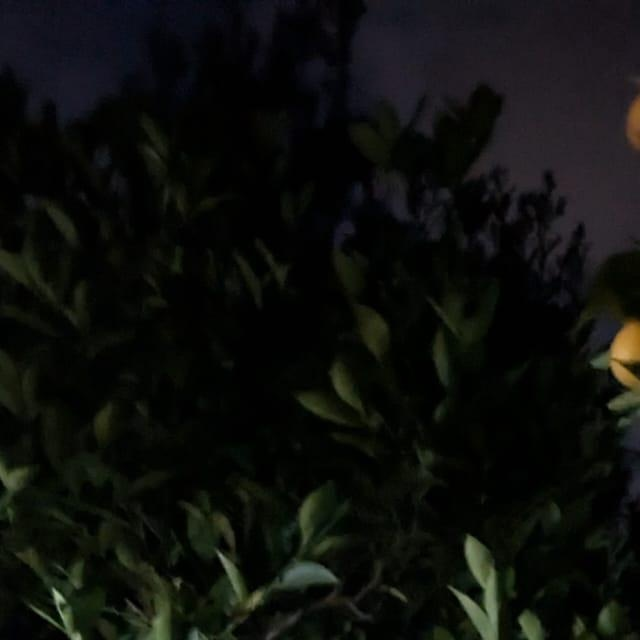orange: (606, 316, 640, 386), (621, 64, 640, 160)
